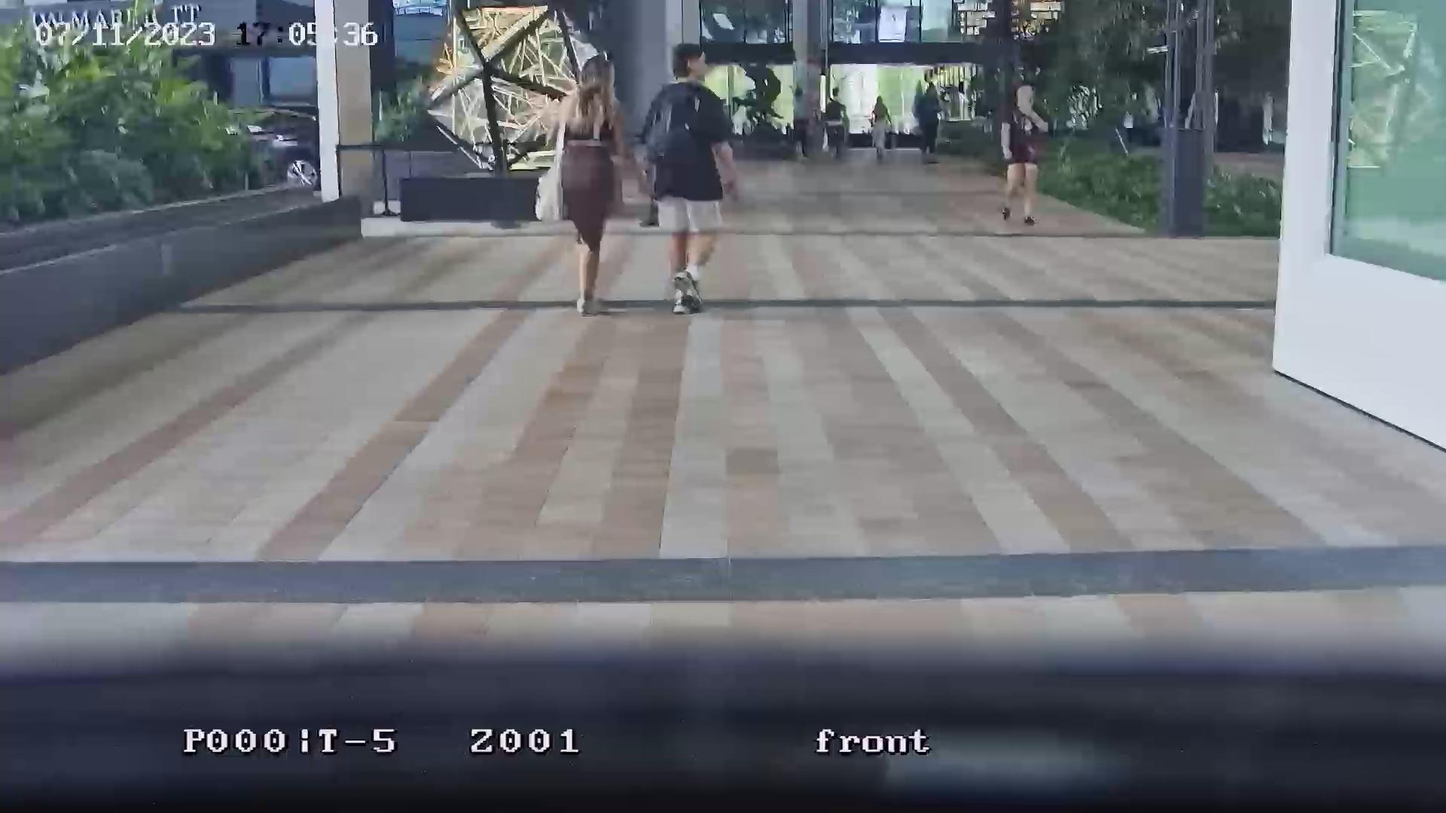person: (638, 40, 740, 313), (556, 81, 637, 317), (999, 83, 1050, 225), (914, 77, 944, 162), (820, 91, 847, 157), (868, 94, 892, 162), (792, 87, 811, 159)
